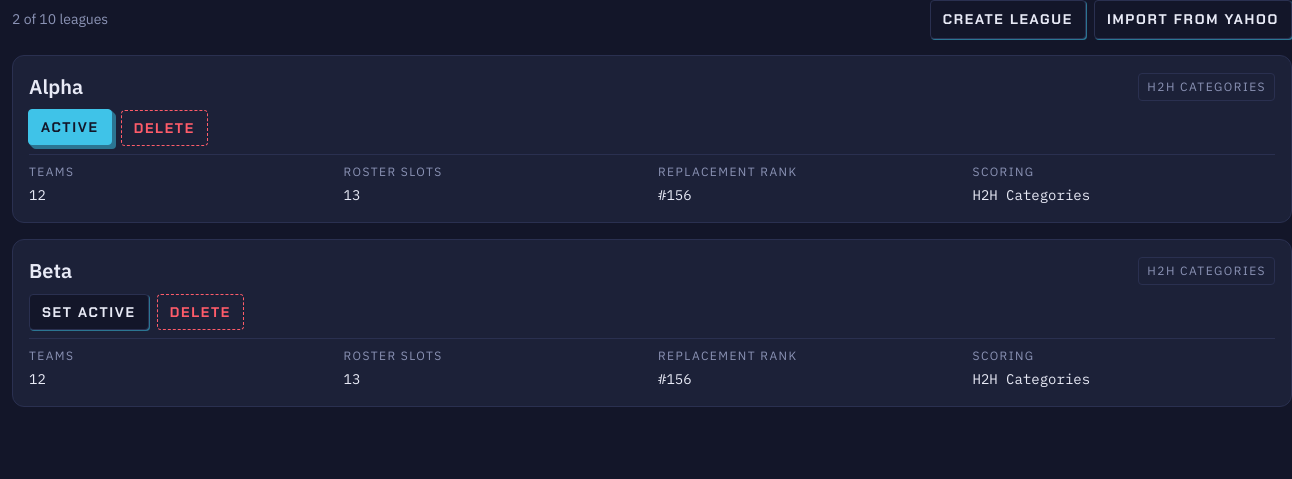
Test case: LeagueList › keeps the card visible and shows an alert when delete fails
The width and height of the screenshot is (1292, 479).
Click the button "Delete" below "Alpha": x=164, y=128 [121,110,208,146]
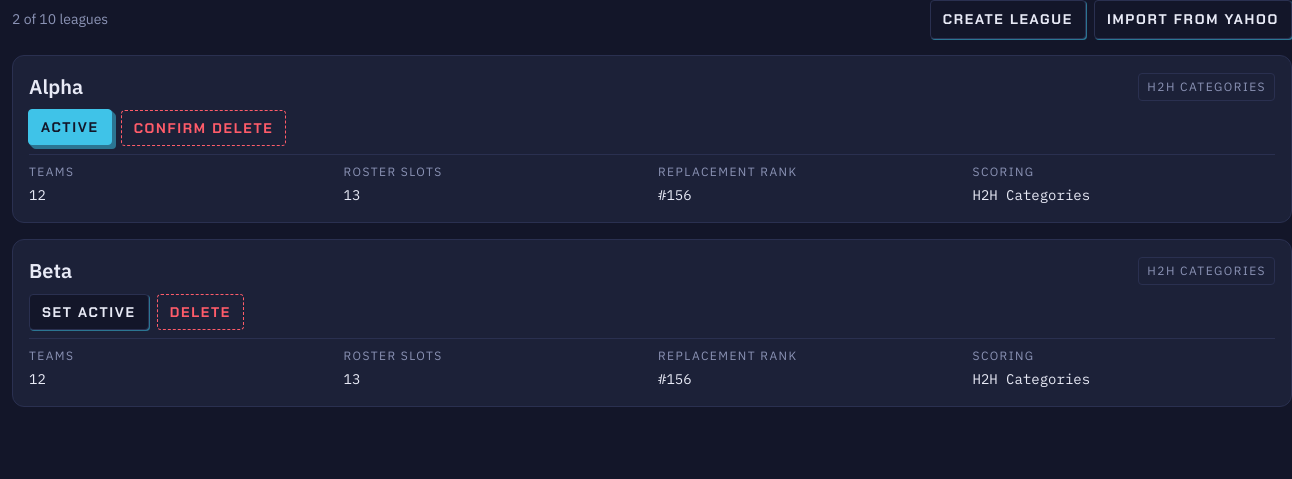
Click the button "Confirm delete": x=204, y=128 [121,110,286,146]
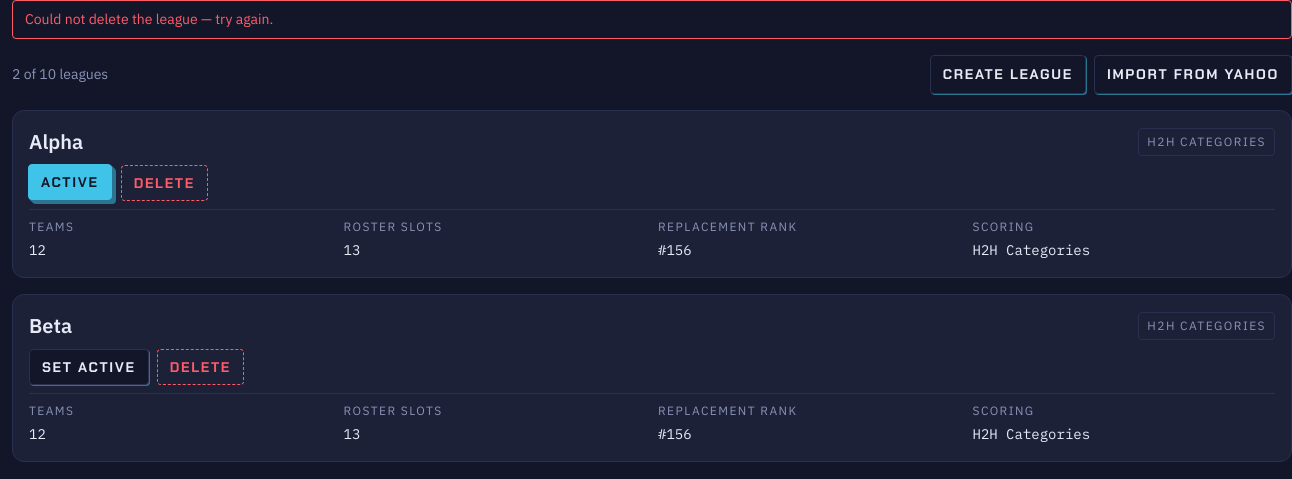
Expected: the link "Alpha" is shown, [29,127,83,157]
Expected: the message reads "Could not delete the league — try again.", [25,10,273,28]
